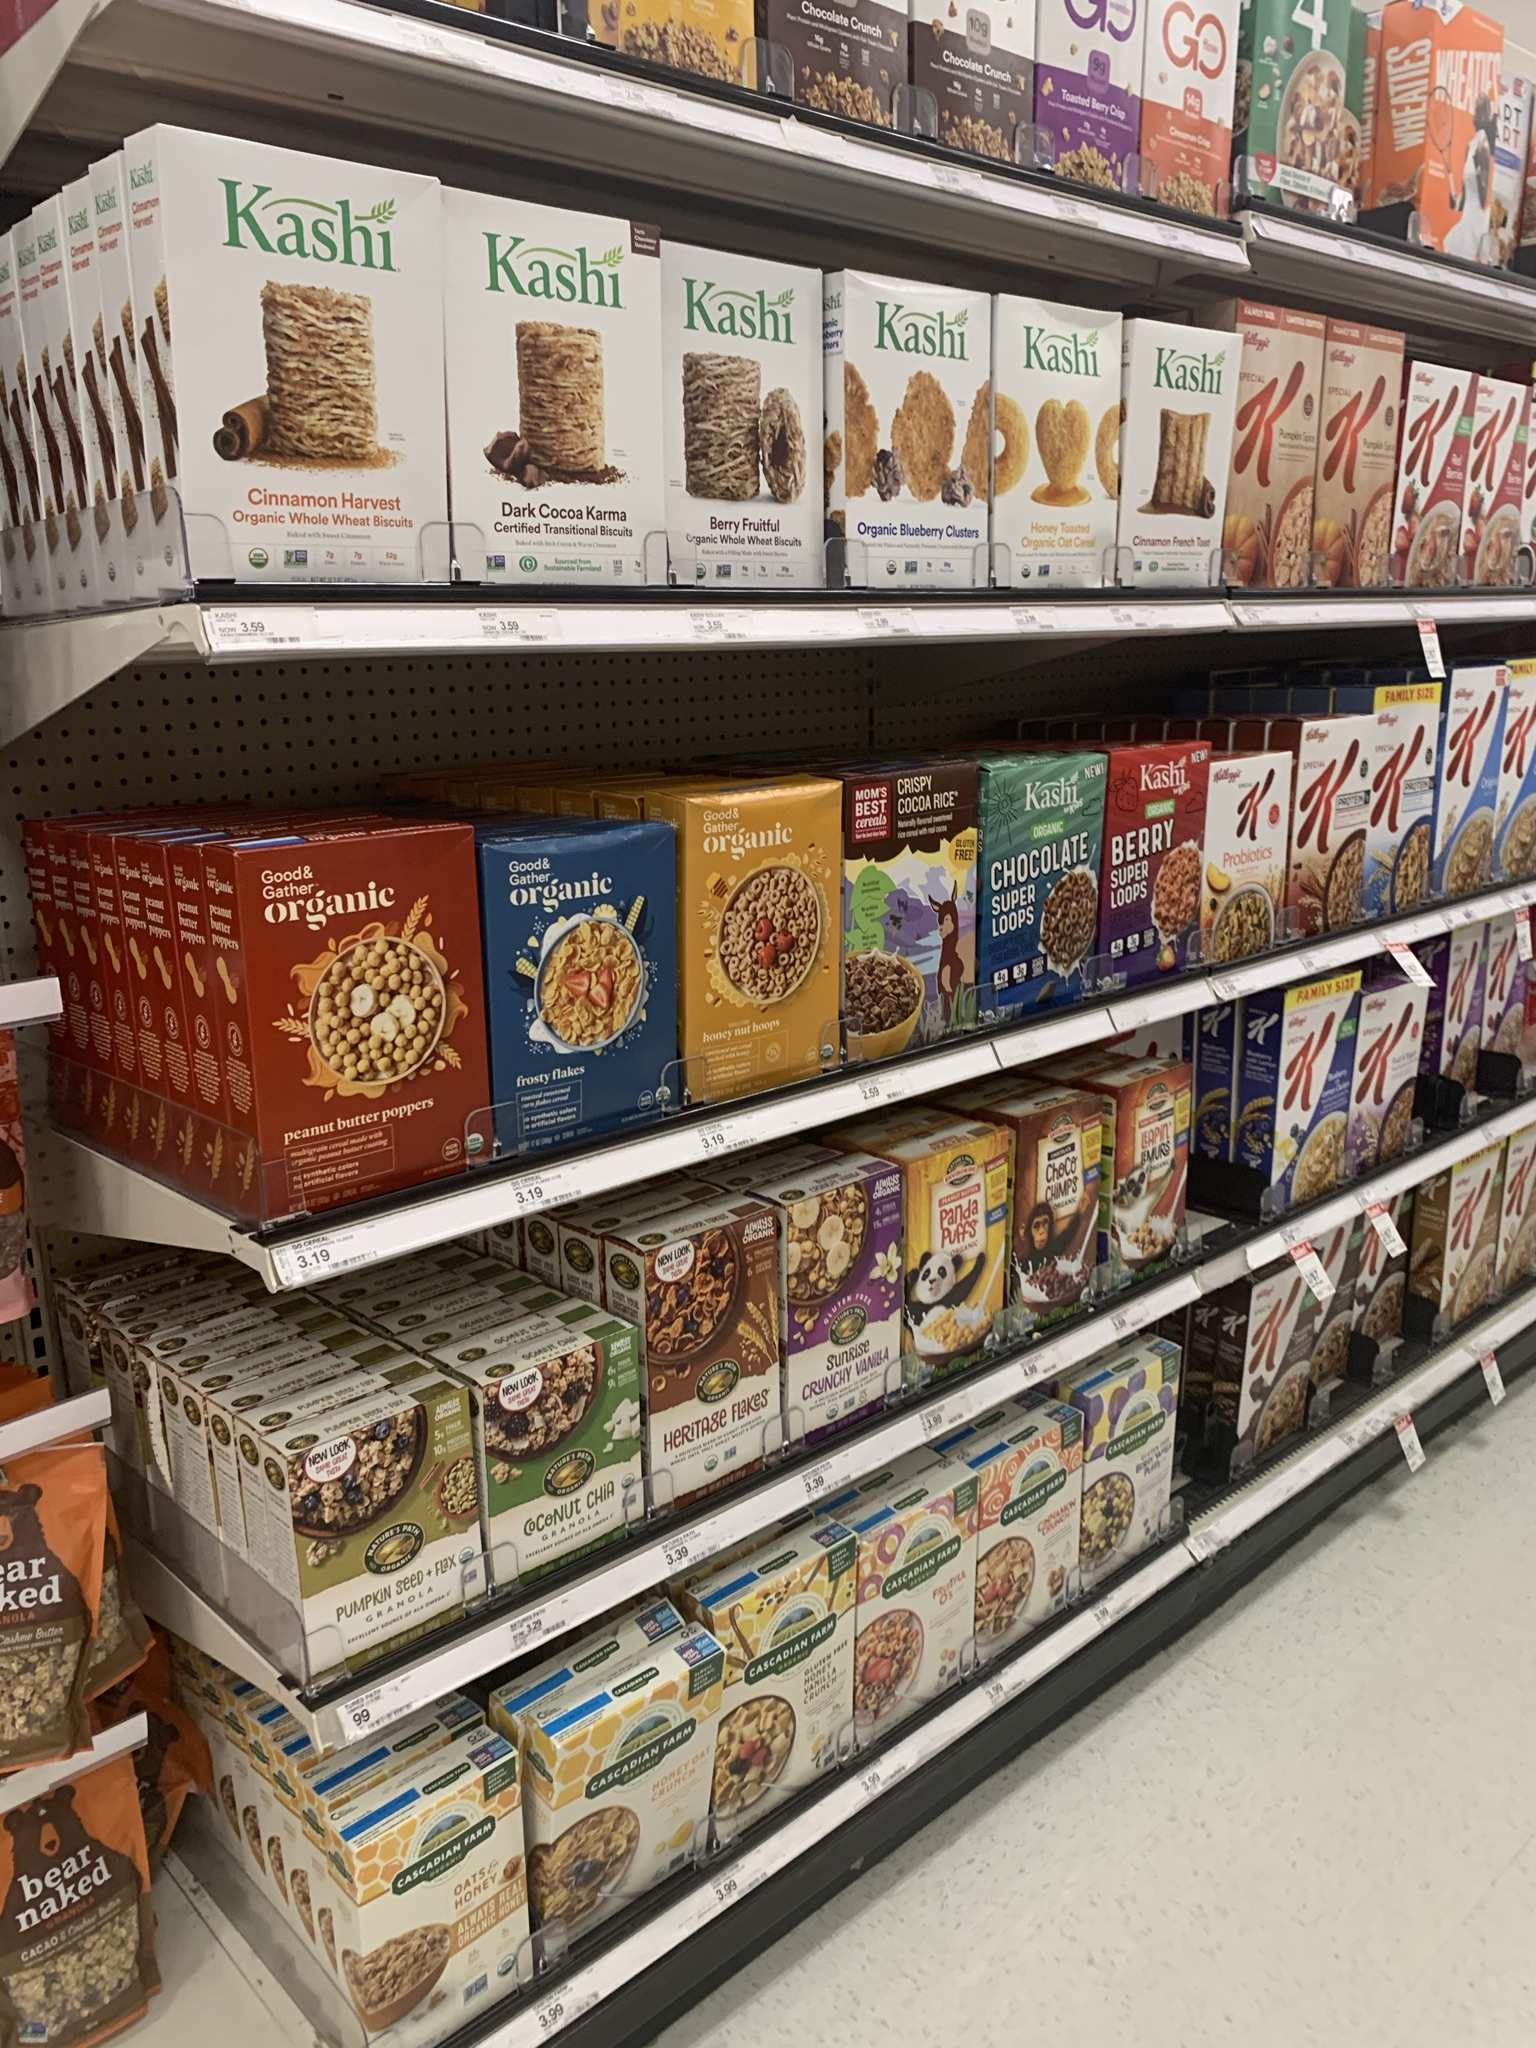cereal: (239, 856, 482, 1187), (484, 843, 687, 1130), (290, 1400, 484, 1666), (345, 1775, 537, 2037), (545, 1667, 712, 1964), (679, 792, 844, 1089), (471, 1385, 652, 1592), (644, 1253, 787, 1508), (849, 777, 979, 1055), (984, 761, 1110, 1027), (718, 1593, 850, 1838), (791, 1200, 913, 1442), (1221, 306, 1310, 597), (910, 1159, 1016, 1387), (862, 1526, 979, 1727), (1018, 1121, 1113, 1347), (1326, 313, 1399, 608), (976, 1461, 1083, 1659), (1270, 989, 1354, 1208), (1112, 1080, 1199, 1287), (1412, 364, 1478, 597), (1087, 1387, 1167, 1572), (1359, 989, 1434, 1174)
